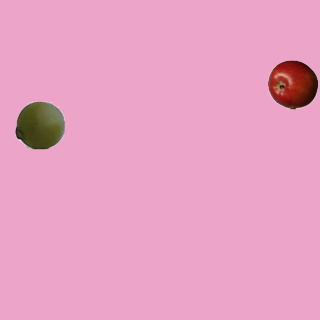Apple Braeburn: (267, 59, 317, 109)
Grape White 4: (14, 99, 64, 149)
